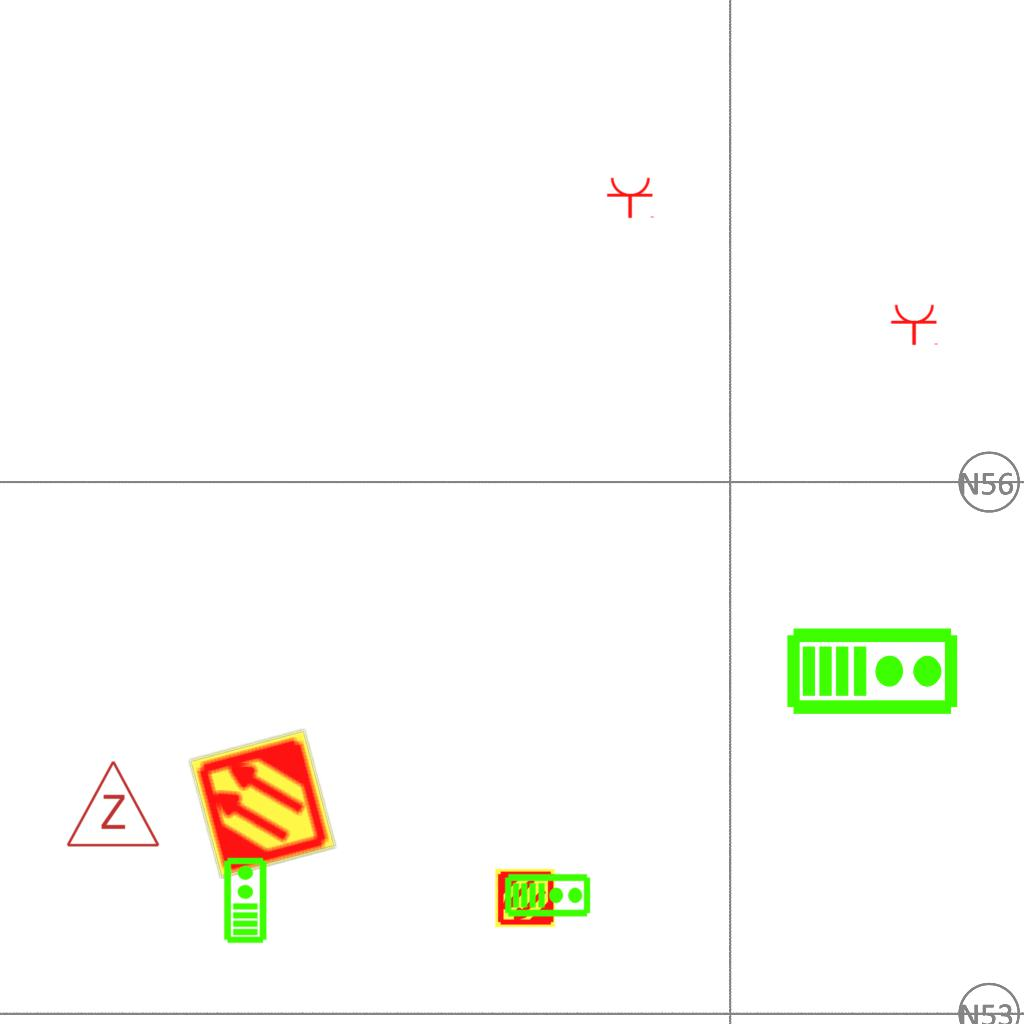ASR_Ansaugrauchmelder: (185, 726, 340, 881), (494, 867, 556, 929)
Gegensprechanlage_mit_Video: (785, 622, 961, 717), (221, 856, 268, 944), (504, 871, 592, 918)
Schukosteckdose_einfach: (606, 176, 656, 219), (890, 303, 940, 346)
Zimmersignalleuchte: (63, 754, 161, 854)
